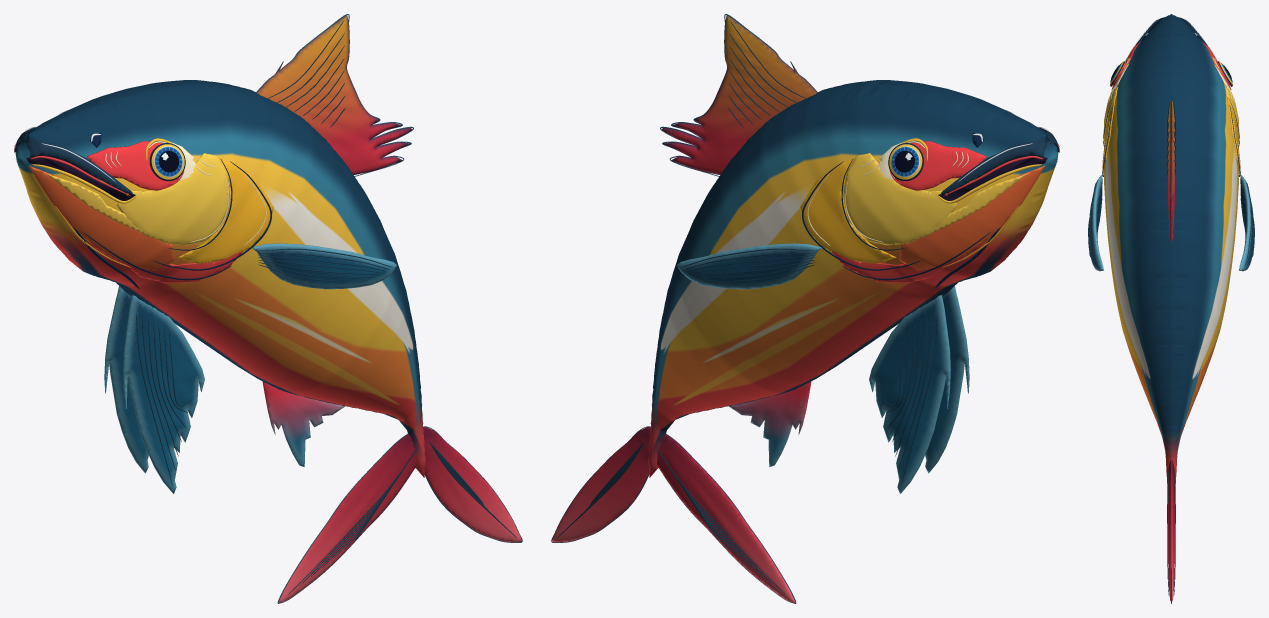
Rendered from dongwon-tuna.glb.
3 renders of one model, left to right at view 1: azimuth 30°, elevation 25°; view 2: azimuth 150°, elevation 25°; view 3: azimuth 270°, elevation 25°, orthographic. The views are drawn at different scales.
Parts seen in each view (by area): view 1: Web Painted body, Web Painted fin membranes, Web Painted fin membranes.001, Web Anatomy operculum, Web Anatomy jaw, Web Anatomy suboperculum, Web Fin ray pigment, Web Anatomy brow, Web Anatomy ink, Web Anatomy membrane, Web Fin ray pigment.001, Web Anatomy maxilla (+4 smaller); view 2: Web Painted body, Web Painted fin membranes, Web Painted fin membranes.001, Web Anatomy operculum, Web Anatomy jaw, Web Anatomy suboperculum, Web Fin ray pigment, Web Anatomy brow, Web Anatomy ink, Web Anatomy membrane, Web Fin ray pigment.001, Web Anatomy maxilla (+4 smaller); view 3: Web Painted body, Web Painted fin membranes, Web Painted fin membranes.001, Web Fin ray pigment, Web Anatomy suboperculum, Web Anatomy ivory, Web Anatomy operculum, Web Anatomy ink, Web Fin ray pigment.001, Web Anatomy brow.
Boxes of the visible parts, left/top/right/bottom form: Web Painted body: left=15, top=80, right=425, bottom=477; Web Painted fin membranes: left=104, top=15, right=411, bottom=493; Web Painted fin membranes.001: left=279, top=426, right=521, bottom=602; Web Anatomy operculum: left=117, top=153, right=229, bottom=245; Web Anatomy jaw: left=28, top=165, right=174, bottom=270; Web Anatomy suboperculum: left=177, top=159, right=273, bottom=263; Web Fin ray pigment: left=136, top=20, right=393, bottom=485; Web Anatomy brow: left=87, top=141, right=179, bottom=190; Web Anatomy ink: left=63, top=110, right=271, bottom=288; Web Anatomy membrane: left=91, top=243, right=242, bottom=283; Web Fin ray pigment.001: left=288, top=440, right=516, bottom=594; Web Anatomy maxilla: left=15, top=127, right=133, bottom=194; Web Painted body: left=648, top=80, right=1058, bottom=477; Web Painted fin membranes: left=662, top=15, right=969, bottom=493; Web Painted fin membranes.001: left=552, top=426, right=794, bottom=602; Web Anatomy operculum: left=844, top=153, right=956, bottom=245; Web Anatomy jaw: left=899, top=165, right=1045, bottom=270; Web Anatomy suboperculum: left=800, top=159, right=896, bottom=263; Web Fin ray pigment: left=680, top=20, right=937, bottom=485; Web Anatomy brow: left=894, top=141, right=986, bottom=190; Web Anatomy ink: left=802, top=110, right=1010, bottom=288; Web Anatomy membrane: left=831, top=243, right=982, bottom=283; Web Fin ray pigment.001: left=557, top=440, right=785, bottom=594; Web Anatomy maxilla: left=940, top=127, right=1058, bottom=194; Web Painted body: left=1104, top=14, right=1238, bottom=485; Web Painted fin membranes: left=1089, top=101, right=1253, bottom=271; Web Painted fin membranes.001: left=1168, top=460, right=1174, bottom=601; Web Fin ray pigment: left=1088, top=102, right=1254, bottom=266; Web Anatomy suboperculum: left=1102, top=97, right=1240, bottom=175; Web Anatomy ivory: left=1102, top=46, right=1240, bottom=168; Web Anatomy operculum: left=1103, top=87, right=1239, bottom=141; Web Anatomy ink: left=1102, top=33, right=1240, bottom=176; Web Fin ray pigment.001: left=1167, top=471, right=1175, bottom=594; Web Anatomy brow: left=1111, top=42, right=1231, bottom=89.
Size of the model in its own units: 4.22 by 4.58 by 1.57.
Materials: 23 (1 with a texture image).
